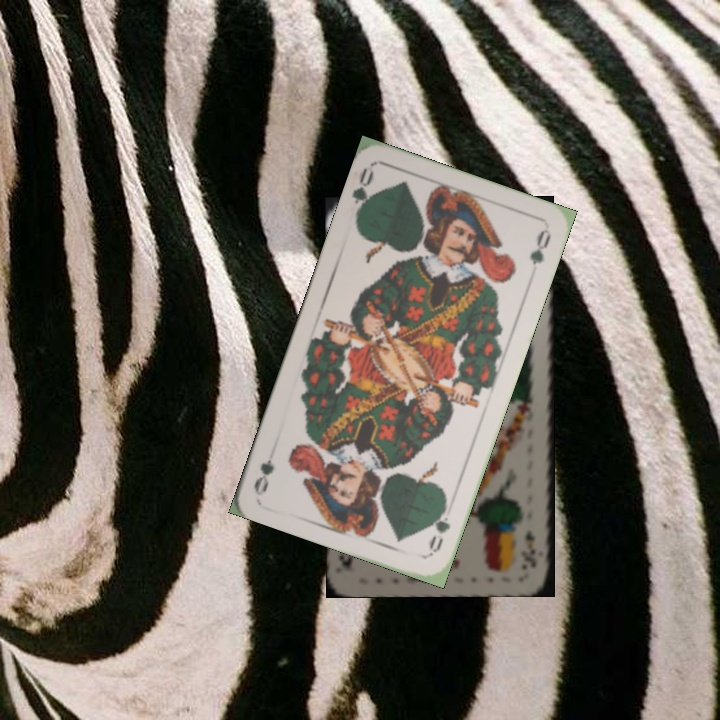EK: (521, 526, 539, 570)
GO: (348, 163, 378, 222), (425, 499, 453, 557)
